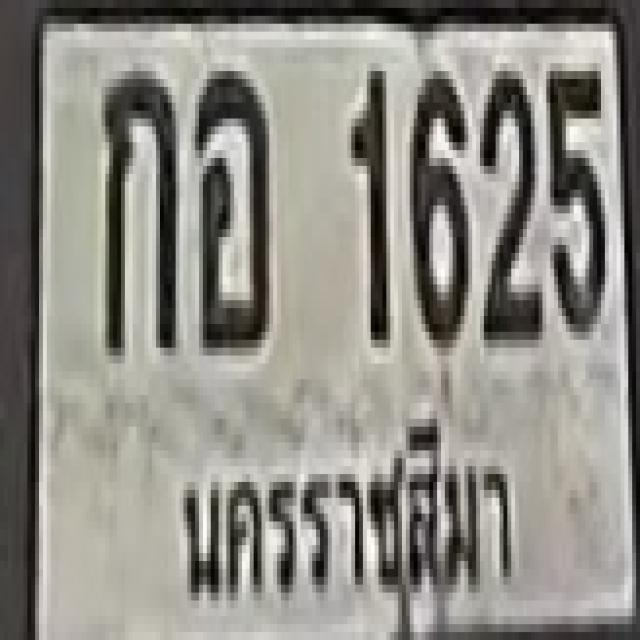1: (350, 63, 384, 340)
2: (476, 67, 539, 336)
5: (542, 63, 601, 332)
6: (406, 63, 464, 340)
A01: (100, 63, 174, 348)
A43: (192, 63, 266, 348)
NMA: (171, 422, 518, 622)
